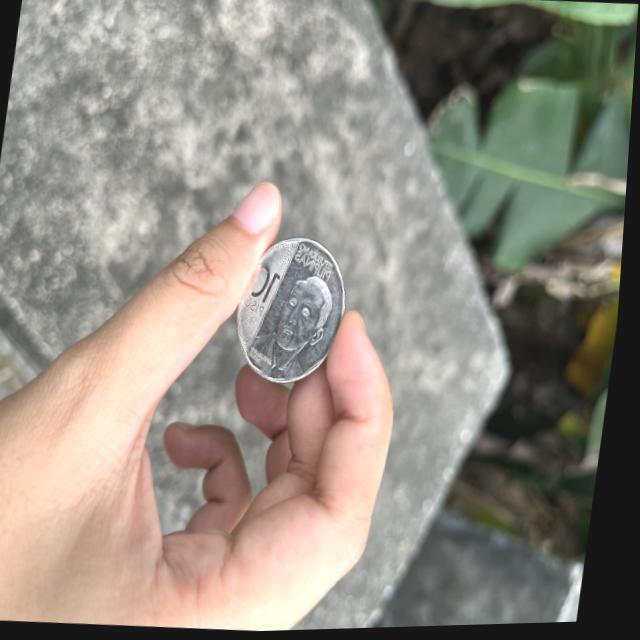10_New_Front: (243, 259, 284, 318)
